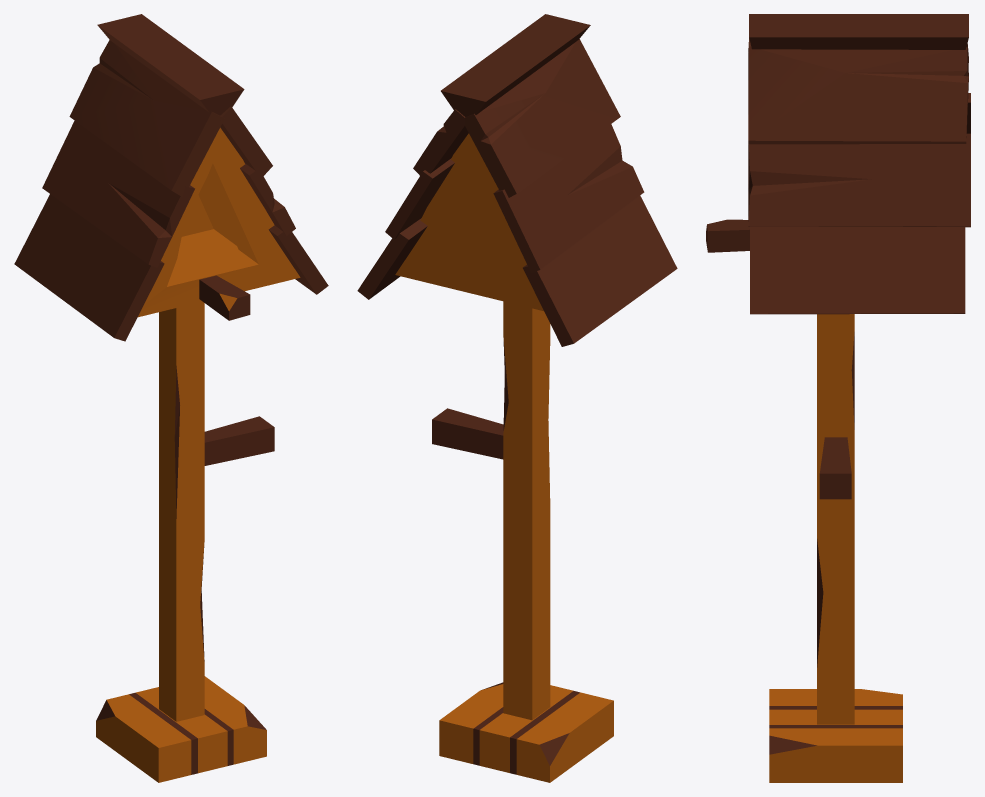
Rendered from Bird_House.fbx.
3 views of the same model, side by side, from view 1: azimuth 30°, elevation 25°; view 2: azimuth 150°, elevation 25°; view 3: azimuth 270°, elevation 25° (orthographic). The views are drawn at different scales.
Visible parts, largest first — view 1: Bird_House; view 2: Bird_House; view 3: Bird_House.
Part boxes in pixels (<box>): Bird_House: <box>14,14,328,782</box>; Bird_House: <box>357,14,677,782</box>; Bird_House: <box>706,14,970,782</box>.
Size of the model in its own units: 18.14 by 55.1 by 18.14.
